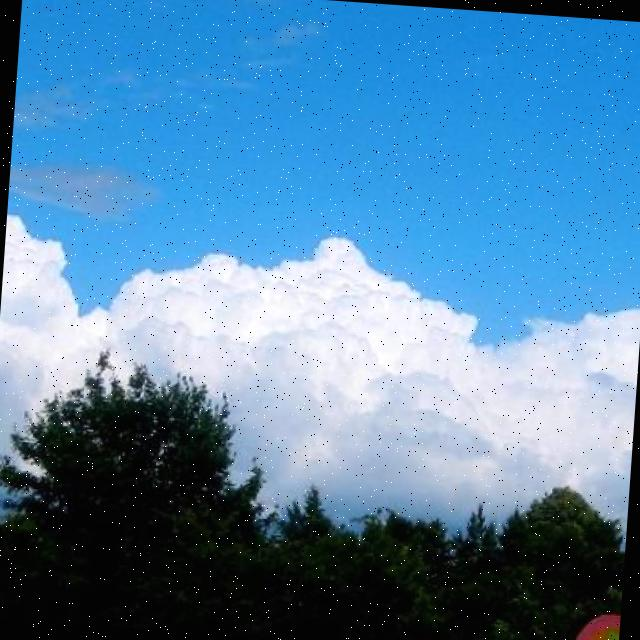Cu: (1, 97, 640, 442)
